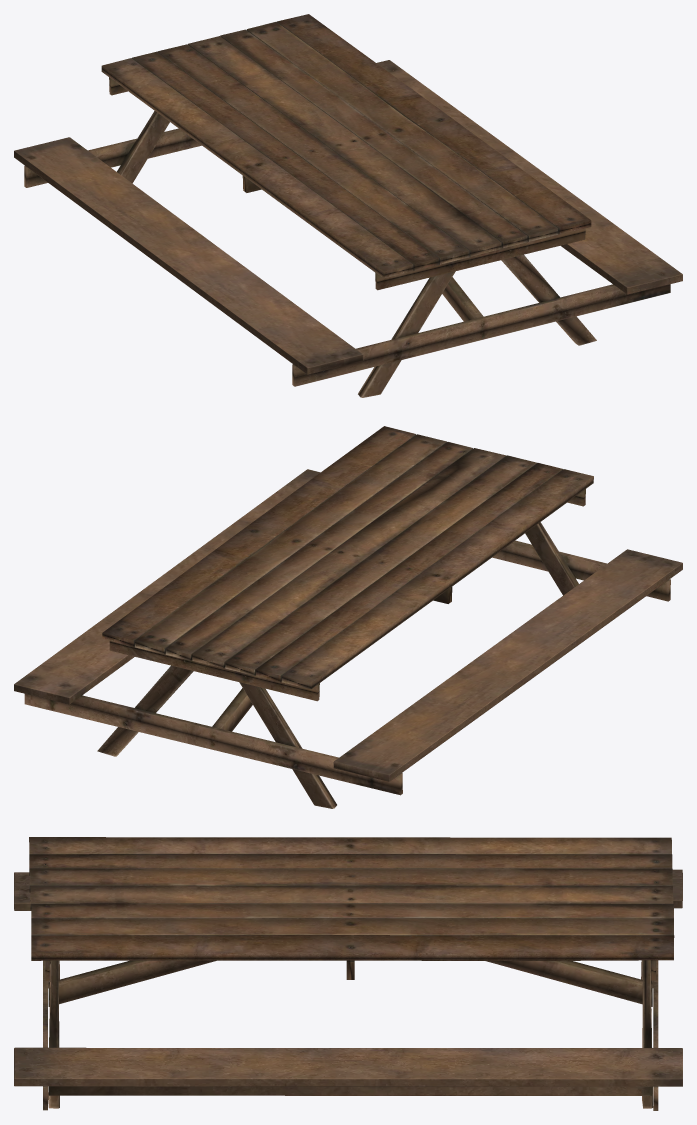
Rendered from wooden_picnic_table.glb.
3 views of the same model, one above another, from view 1: azimuth 30°, elevation 25°; view 2: azimuth 150°, elevation 25°; view 3: azimuth 270°, elevation 25° (orthographic). The views are drawn at different scales.
Visible parts, largest first — view 1: wooden_picnic_table; view 2: wooden_picnic_table; view 3: wooden_picnic_table.
Boxes of the visible parts, bbox=[...] form: wooden_picnic_table: bbox=[14, 14, 682, 397]; wooden_picnic_table: bbox=[14, 426, 682, 808]; wooden_picnic_table: bbox=[14, 837, 682, 1110].
Size of the model in its own units: 2.24 by 0.7423 by 3.02.
Materials: 2 (2 with a texture image).
